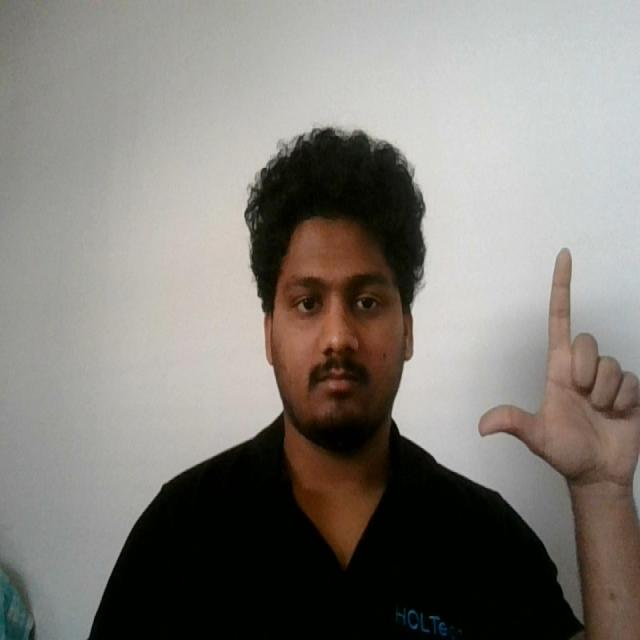IloveYou: (469, 240, 640, 498)
